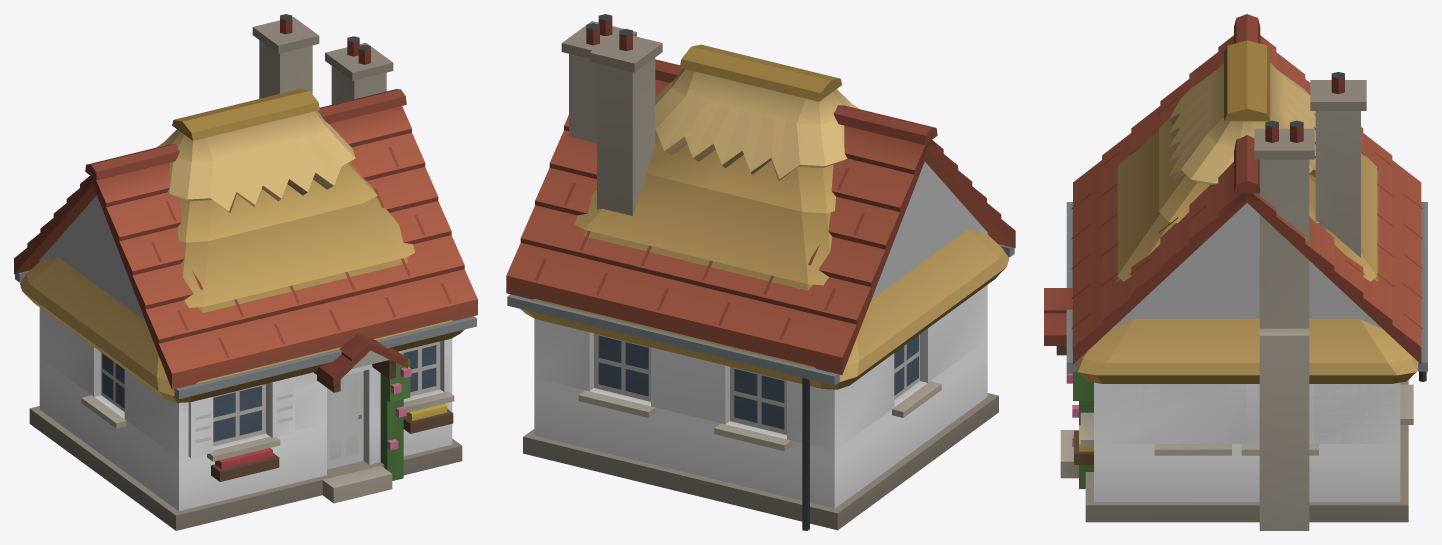
File: cottage.glb
The picture shows the model from 3 angles, left to right: view 1: azimuth 30°, elevation 25°; view 2: azimuth 150°, elevation 25°; view 3: azimuth 270°, elevation 25°; orthographic projection. The views are drawn at different scales.
Parts seen in each view (by area): view 1: CottageThatch, CottageTile; view 2: CottageThatch, CottageTile; view 3: CottageThatch, CottageTile.
Part boxes in pixels (<box>): CottageThatch: <box>20,14,464,530</box>; CottageTile: <box>14,36,477,460</box>; CottageThatch: <box>521,29,1009,530</box>; CottageTile: <box>506,14,1015,530</box>; CottageThatch: <box>1060,40,1421,522</box>; CottageTile: <box>1044,14,1427,530</box>.
Size of the model in its own units: 0.968 by 1.1 by 0.926.
